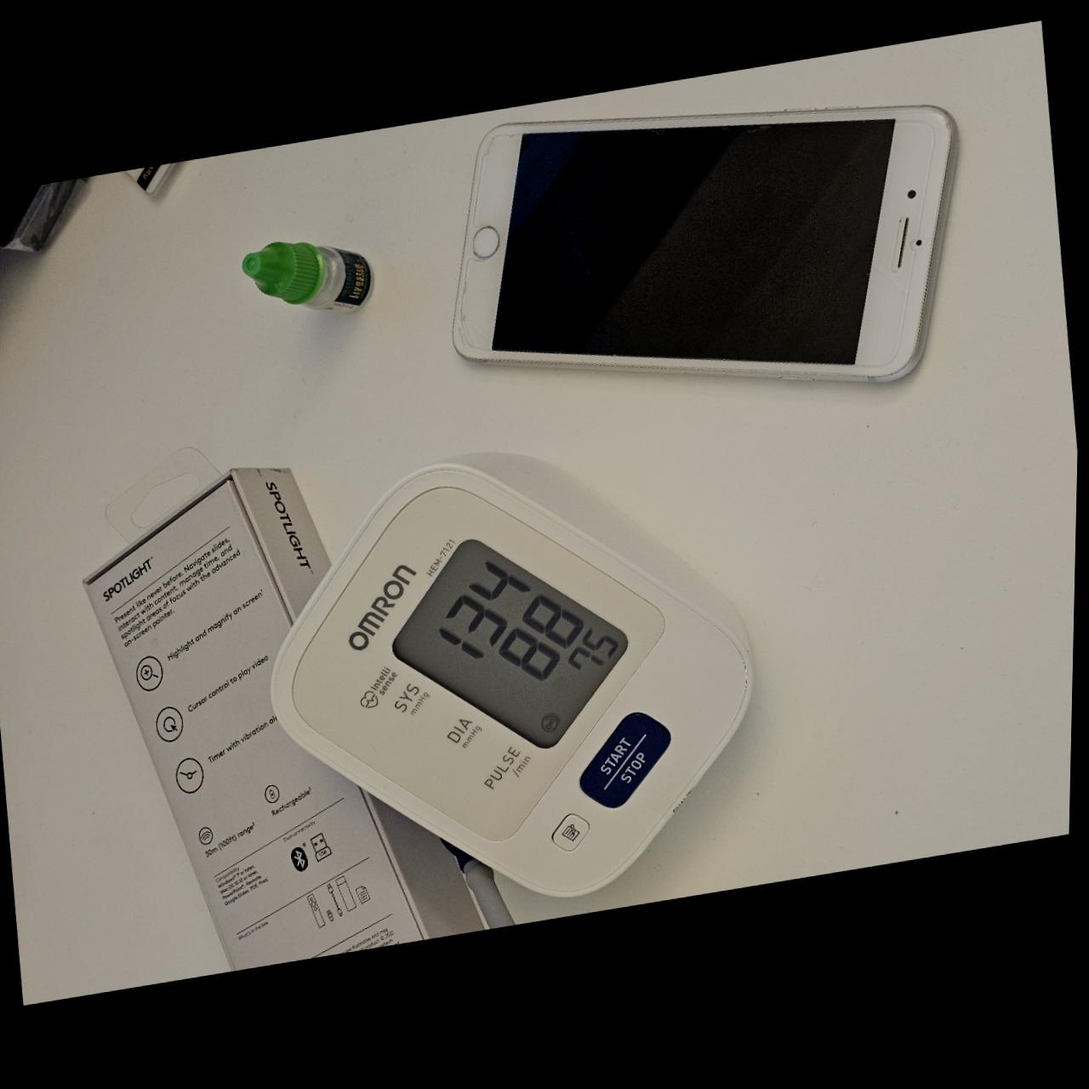blood pressure monitor: (242, 402, 780, 949)
